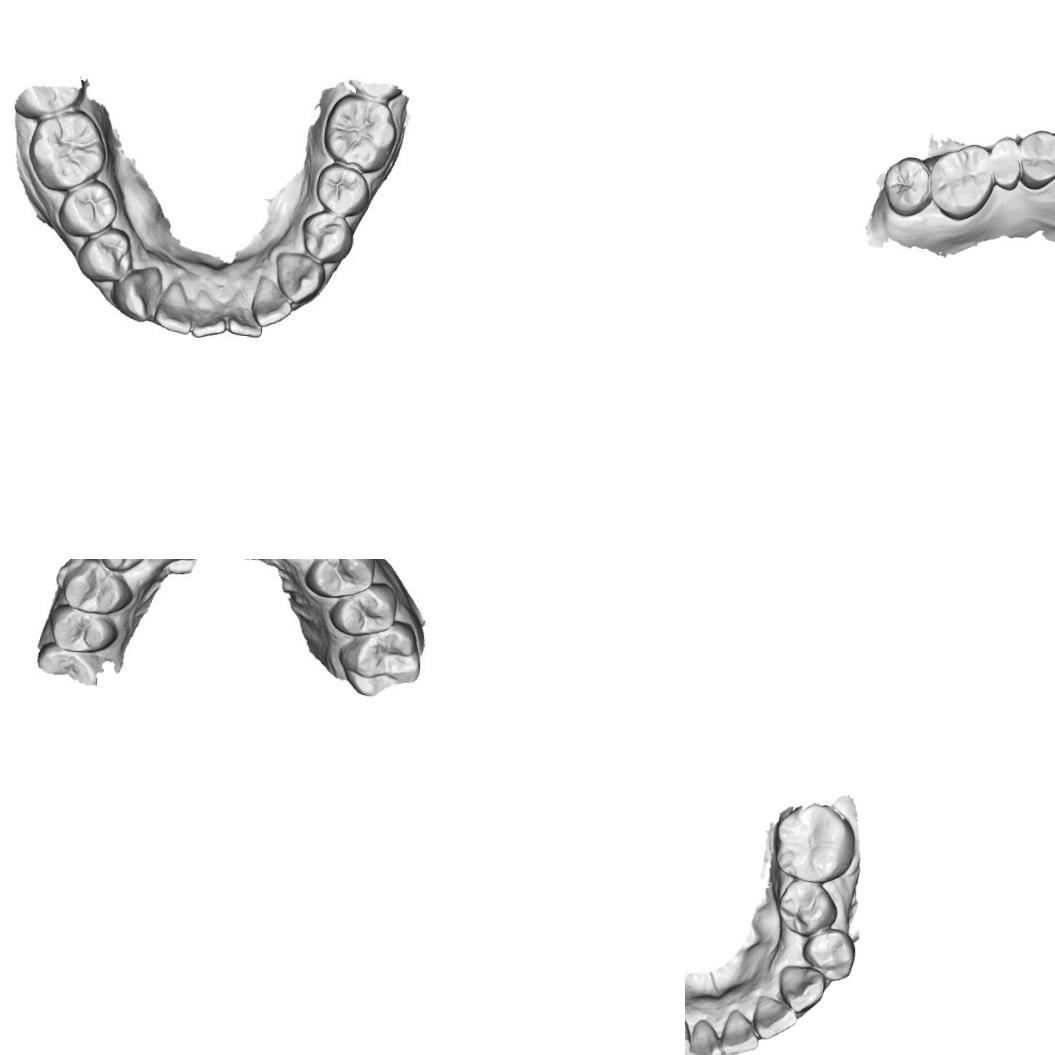canine: (269, 246, 326, 307), (116, 265, 164, 321), (776, 963, 827, 1015), (89, 559, 151, 574)
incisor: (253, 278, 300, 331), (750, 993, 798, 1041), (190, 288, 226, 346), (717, 1007, 760, 1055), (157, 280, 194, 330), (685, 1017, 726, 1055), (229, 295, 260, 341)
molar: (330, 616, 430, 706), (770, 798, 858, 884), (22, 106, 107, 194), (322, 86, 405, 174), (926, 140, 997, 222), (880, 152, 935, 220), (986, 135, 1022, 191)
premolar: (53, 559, 135, 617), (328, 581, 401, 642), (42, 602, 118, 657), (774, 876, 840, 938), (55, 180, 116, 240), (303, 559, 379, 606), (798, 924, 858, 982), (312, 164, 373, 221), (78, 227, 134, 280), (299, 210, 352, 262), (1014, 126, 1055, 191)
